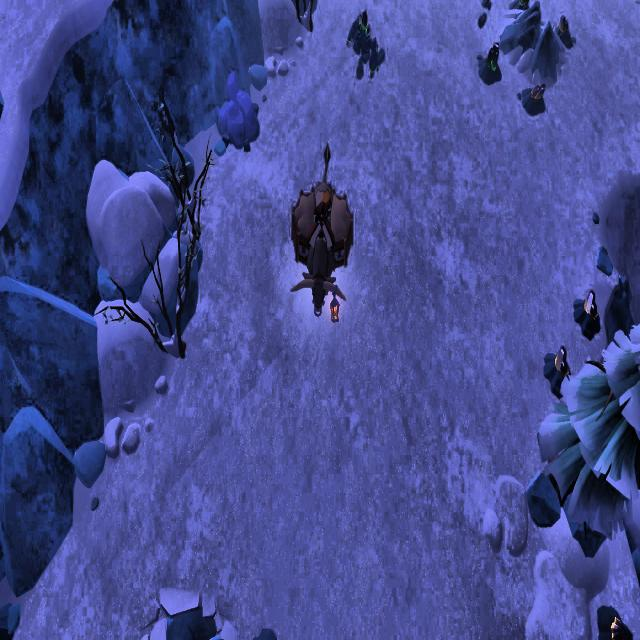ore_t3: (482, 43, 502, 70)
rock_t4: (216, 66, 264, 158)
